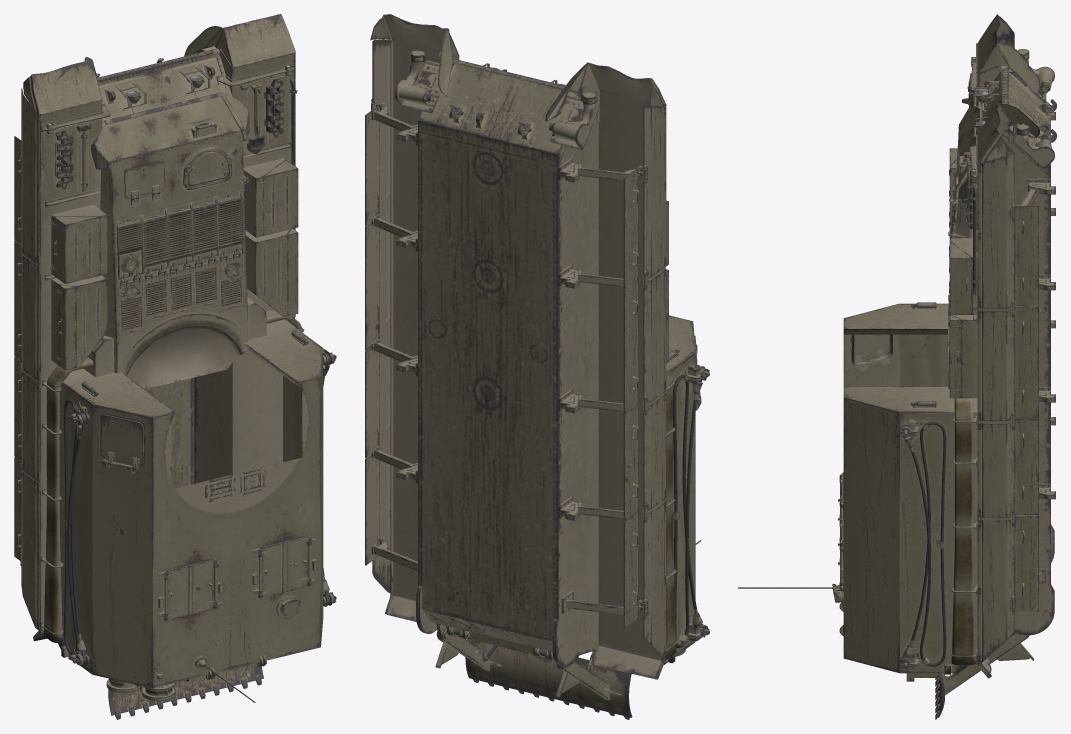
The model's file is Hull.glb.
3 renders of one model, left to right at view 1: azimuth 30°, elevation 25°; view 2: azimuth 150°, elevation 25°; view 3: azimuth 270°, elevation 25°, orthographic. The views are drawn at different scales.
Parts seen in each view (by area): view 1: set_0_group_0; view 2: set_0_group_0; view 3: set_0_group_0.
Part boxes in pixels (x1,y1,x2,y2): set_0_group_0: (14, 14, 336, 719); set_0_group_0: (365, 14, 709, 719); set_0_group_0: (738, 14, 1056, 719).
Bounding box in the file's own units: 3.74 × 8.63 × 4.06.
Materials: 1 (1 with a texture image).
